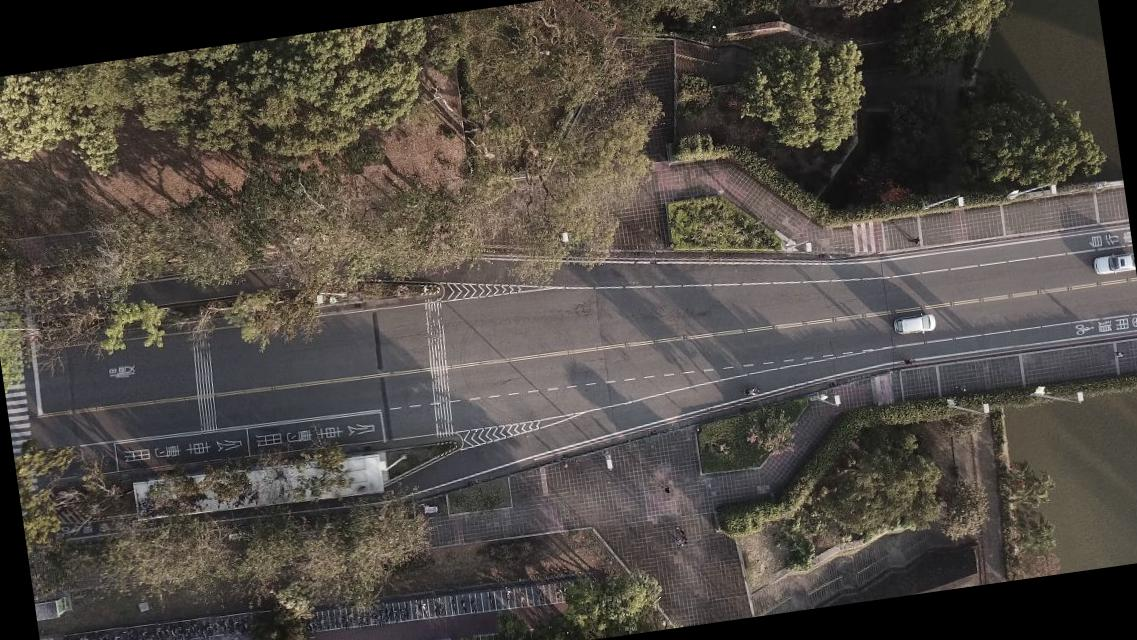vehicle: (892, 311, 936, 339), (1092, 251, 1136, 278)
